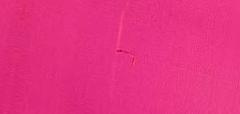snag: (110, 46, 141, 69)
